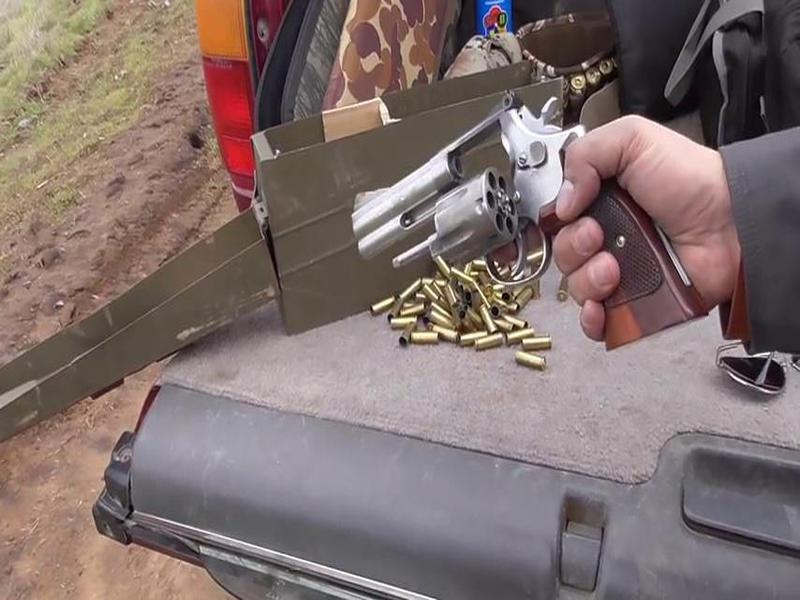Revolver: (321, 58, 698, 421)
